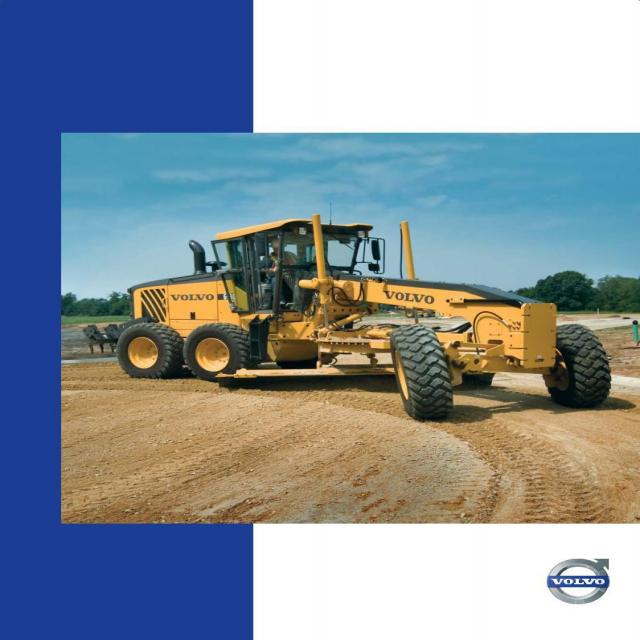Grader: (86, 206, 626, 432)
